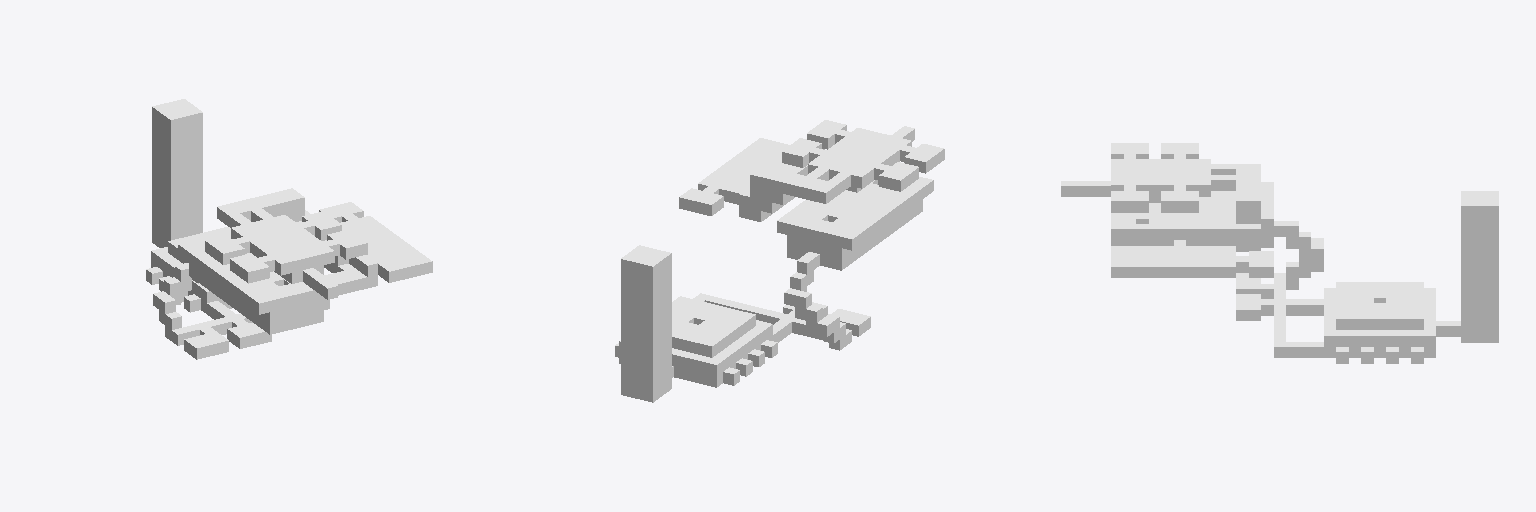
File: lab.obj
3 renders of one model, left to right at view 1: azimuth 30°, elevation 25°; view 2: azimuth 150°, elevation 25°; view 3: azimuth 270°, elevation 25°, orthographic.
Parts seen in each view (by area): view 1: object 1; view 2: object 1; view 3: object 1.
Part boxes in pixels (bbox=[...]): object 1: bbox=[146, 99, 432, 359]; object 1: bbox=[615, 120, 944, 402]; object 1: bbox=[1061, 143, 1498, 363].
Size of the model in its own units: 1.7 by 1.2 by 3.5.